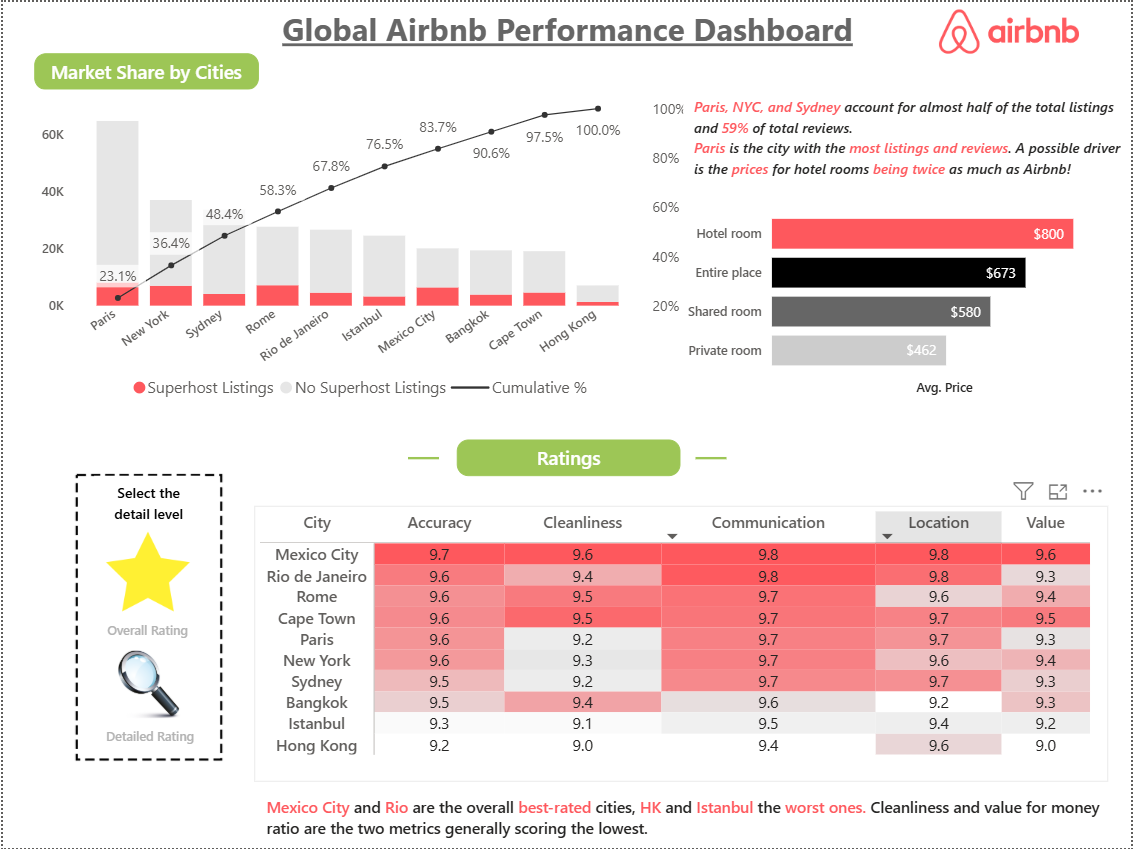

The page's visual inventory and layout, read from the dashboard file:
{"tool":"powerbi","page":{"name":"Ratings","canvas":[960,720],"ordinal":1},"visuals":[{"type":"textbox","box":[226.1,0,507.7,51.7],"z":0},{"type":"textbox","box":[386.3,372.2,190.7,31],"z":0,"group":"g1"},{"type":"image","box":[83.7,446.6,80.3,75.8],"z":0,"group":"g2"},{"type":"image","box":[83.7,551.8,80.3,59.9],"z":0,"group":"g3"},{"type":"image","box":[789.2,6.8,133.4,37.3],"z":1000},{"type":"shape","box":[344.9,360.7,26.4,55.1],"z":1000,"group":"g1"},{"type":"textbox","box":[75.8,519,95,30.5],"z":1000,"group":"g2"},{"type":"textbox","box":[78,609.5,95,30.5],"z":1000,"group":"g3"},{"type":"textbox","box":[27,44,191,31],"z":2000},{"type":"shape","box":[589.6,360.7,26.4,55.1],"z":2000,"group":"g1"},{"type":"lineStackedColumnComboChart","fields":{"Category":["Listings.city"],"Y":["Listings.Superhost Listings","Listings.No Superhost Listings"],"Y2":["Listings.Cumulative %"]},"box":[27.1,74.6,556.3,272.5],"z":3000},{"type":"barChart","fields":{"Y":["Listings.Avg. Price"],"Category":["Listings.room_type"]},"box":[576.6,158.3,376.5,180.9],"z":4000},{"type":"textbox","box":[583.4,74.6,376.5,83.7],"z":5000},{"type":"group","id":"g1","title":"Title","box":[344.9,360.7,272.5,55.4],"z":6000},{"type":"image","box":[28.3,377.6,191.1,291.7],"z":8000},{"type":"pivotTable","fields":{"Rows":["Listings.city"],"Values":["Listings.Accuracy","Listings.Cleanliness","Listings.Communication","Listings.Location","Listings.Value"]},"box":[213.7,428.5,727,235.2],"z":9000},{"type":"textbox","box":[78,403.6,92.7,48.6],"z":10000},{"type":"group","id":"g2","title":"Overall Rating","box":[75.8,446.6,95,102.9],"z":11000},{"type":"group","id":"g3","title":"Detailed Rating","box":[78,551.8,95,88.2],"z":12000},{"type":"textbox","box":[219.3,671.6,724.8,48.6],"z":13000}]}

Visuals, with their boxes in screenshot pixels (x1, y1, x2, y2), scaled from the page's 960x720 canvas onto the 1133x849 screenshot:
textbox: x1=267 y1=0 x2=866 y2=61
textbox: x1=456 y1=439 x2=681 y2=475
image: x1=99 y1=527 x2=194 y2=616
image: x1=99 y1=651 x2=194 y2=721
image: x1=931 y1=8 x2=1089 y2=52
shape: x1=407 y1=425 x2=438 y2=490
textbox: x1=89 y1=612 x2=202 y2=648
textbox: x1=92 y1=719 x2=204 y2=755
textbox: x1=32 y1=52 x2=257 y2=88
shape: x1=696 y1=425 x2=727 y2=490
lineStackedColumnComboChart - Listings.city x Listings.Superhost Listings: x1=32 y1=88 x2=689 y2=409
barChart - Listings.Avg. Price x Listings.room_type: x1=681 y1=187 x2=1125 y2=400
textbox: x1=689 y1=88 x2=1132 y2=187
"Title" group: x1=407 y1=425 x2=729 y2=491
image: x1=33 y1=445 x2=259 y2=789
pivotTable - Listings.city x Listings.Accuracy: x1=252 y1=505 x2=1110 y2=783
textbox: x1=92 y1=476 x2=201 y2=533
"Overall Rating" group: x1=89 y1=527 x2=202 y2=648
"Detailed Rating" group: x1=92 y1=651 x2=204 y2=755
textbox: x1=259 y1=792 x2=1114 y2=848
